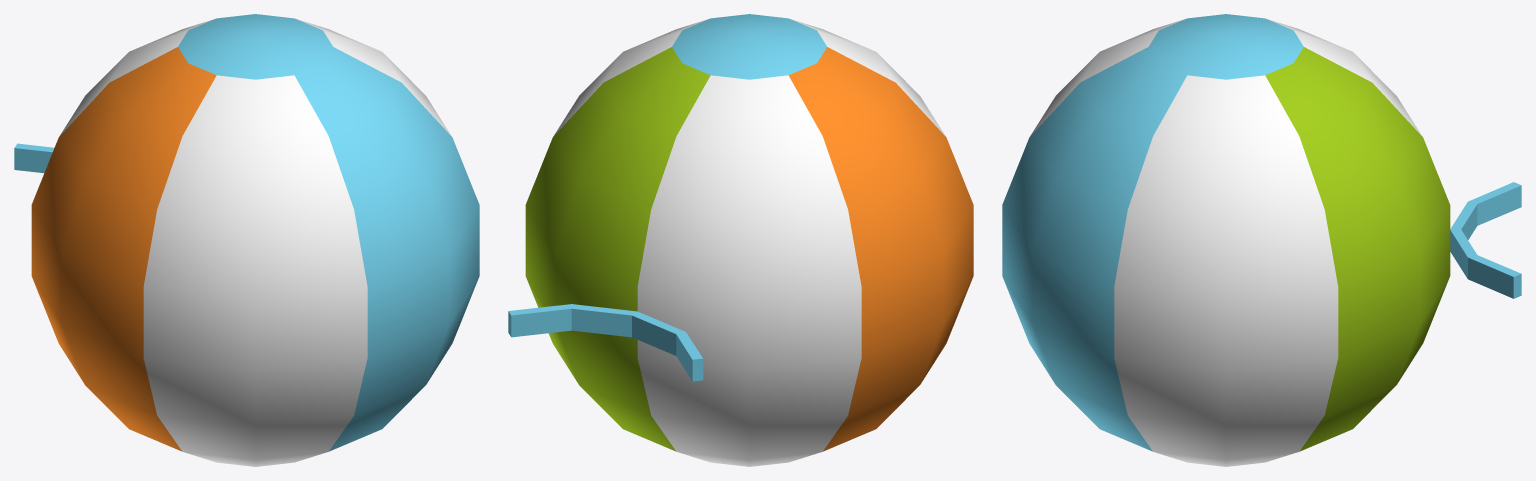
File: hat-beach-ball.glb
3 renders of one model, left to right at view 1: azimuth 30°, elevation 25°; view 2: azimuth 150°, elevation 25°; view 3: azimuth 270°, elevation 25°, orthographic.
Parts seen in each view (by area): view 1: hat-beach-ball; view 2: hat-beach-ball; view 3: hat-beach-ball.
Part boxes in pixels (left/top/right/bottom): hat-beach-ball: left=14, top=14, right=479, bottom=466; hat-beach-ball: left=508, top=14, right=973, bottom=466; hat-beach-ball: left=1002, top=14, right=1521, bottom=466.
Bounding box in the file's own units: 1.85 × 1.88 × 2.15.
1 material, 1 textured.
